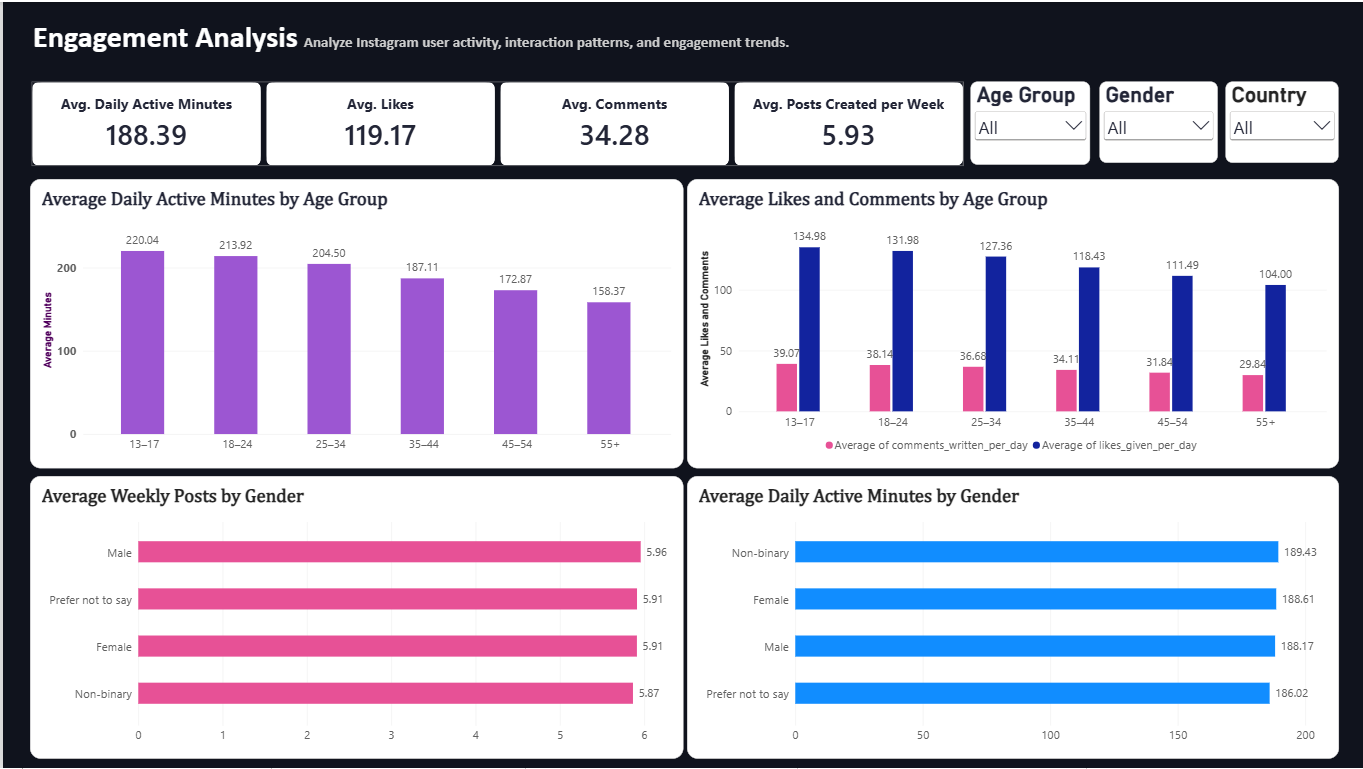

What the dashboard file says about the page in this screenshot:
{"tool":"powerbi","page":{"name":"03 - Engagement Analysis","canvas":[1920,1080],"ordinal":2},"visuals":[{"type":"cardVisual","fields":{"Data":["Avg(InstagramUsers.daily_active_minutes_instagram)","Avg(InstagramUsers.likes_given_per_day)","Avg(InstagramUsers.comments_written_per_day)","Avg(InstagramUsers.posts_created_per_week)"]},"box":[39.9,112.5,1315.3,119.6],"z":0},{"type":"slicer","fields":{"Values":["InstagramUsers.gender"]},"box":[1545,112.5,166.5,114.9],"z":1000},{"type":"slicer","fields":{"Values":["InstagramUsers.age_group"]},"box":[1364.5,112.5,168.8,117.2],"z":2000},{"type":"textbox","box":[42.2,23.4,1244.9,58.6],"z":3000},{"type":"clusteredColumnChart","title":"Average Daily Active Minutes by Age Group","fields":{"Category":["InstagramUsers.age_group"],"Y":["Avg(InstagramUsers.daily_active_minutes_instagram)"]},"box":[37.5,248.5,921.4,407.9],"z":4000},{"type":"clusteredColumnChart","title":"Average Likes and Comments by Age Group","fields":{"Category":["InstagramUsers.age_group"],"Y":["Avg(InstagramUsers.comments_written_per_day)","Avg(InstagramUsers.likes_given_per_day)"]},"box":[963.6,248.5,919,407.9],"z":5000},{"type":"clusteredBarChart","title":"Average Weekly Posts by Gender","fields":{"Category":["InstagramUsers.gender"],"Y":["Avg(InstagramUsers.posts_created_per_week)"]},"box":[37.5,668.2,921.4,398.6],"z":6000},{"type":"clusteredBarChart","title":"Average Daily Active Minutes by Gender","fields":{"Category":["InstagramUsers.gender"],"Y":["Avg(InstagramUsers.daily_active_minutes_instagram)"]},"box":[963.6,668.2,919,398.6],"z":7000},{"type":"slicer","title":"Country ","fields":{"Values":["InstagramUsers.country"]},"box":[1723.2,112.5,159.4,114.9],"z":8000}]}

Visuals, with their boxes in screenshot pixels (x1, y1, x2, y2), scaled from the page's 1920x1080 canvas onto the 1363x769 screenshot:
cardVisual - Avg(InstagramUsers.daily_active_minutes_instagram) x Avg(InstagramUsers.likes_given_per_day): bbox=[28, 80, 962, 165]
slicer - InstagramUsers.gender: bbox=[1097, 80, 1215, 162]
slicer - InstagramUsers.age_group: bbox=[969, 80, 1088, 164]
textbox: bbox=[30, 17, 914, 58]
"Average Daily Active Minutes by Age Group" clusteredColumnChart: bbox=[27, 177, 681, 467]
"Average Likes and Comments by Age Group" clusteredColumnChart: bbox=[684, 177, 1336, 467]
"Average Weekly Posts by Gender" clusteredBarChart: bbox=[27, 476, 681, 760]
"Average Daily Active Minutes by Gender" clusteredBarChart: bbox=[684, 476, 1336, 760]
"Country " slicer: bbox=[1223, 80, 1336, 162]
